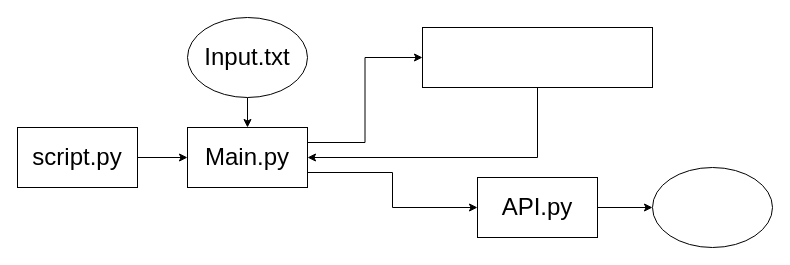
Image size: 790x265. Some labels were removed from this diagram. The shapes that lost their labels are listed below. From the top down, each one's centre as x and y in pixels, then its label:
At (537,57): "Authentication.py".
At (712,207): "Output".
